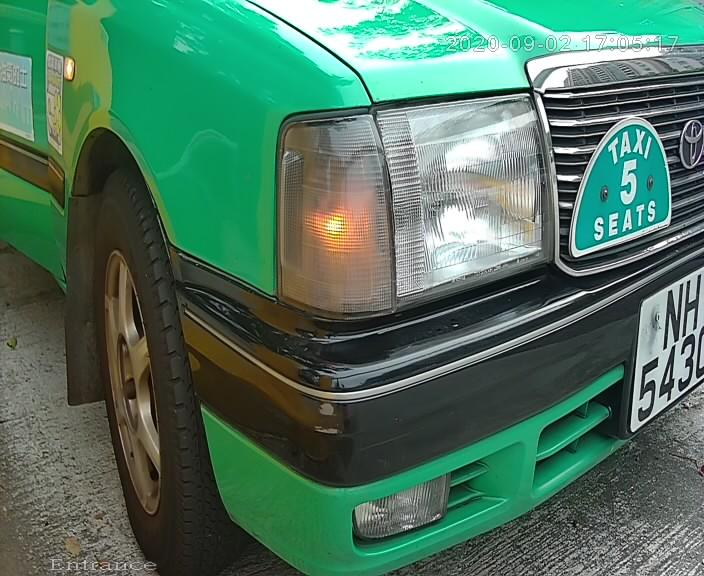Car: (45, 1, 692, 556)
License Plate: (620, 268, 704, 427)
